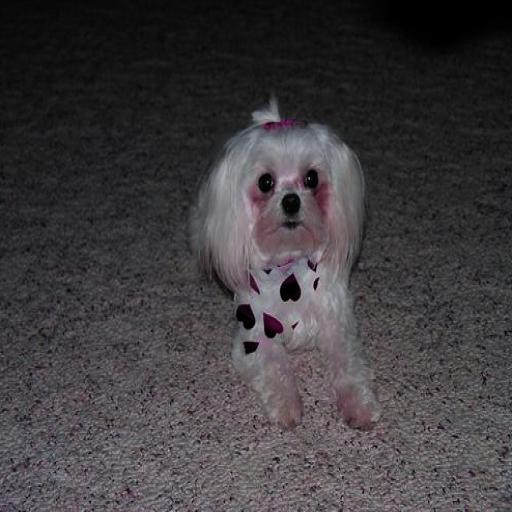dog_face: (189, 110, 369, 284)
